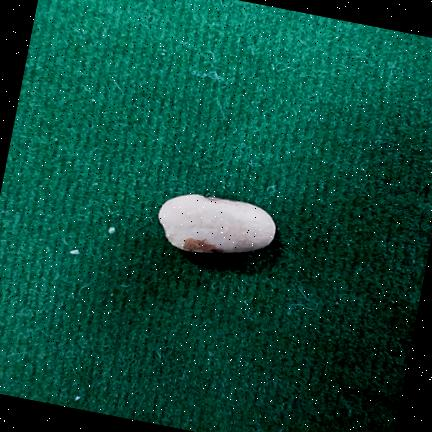shell: (159, 195, 276, 253)
